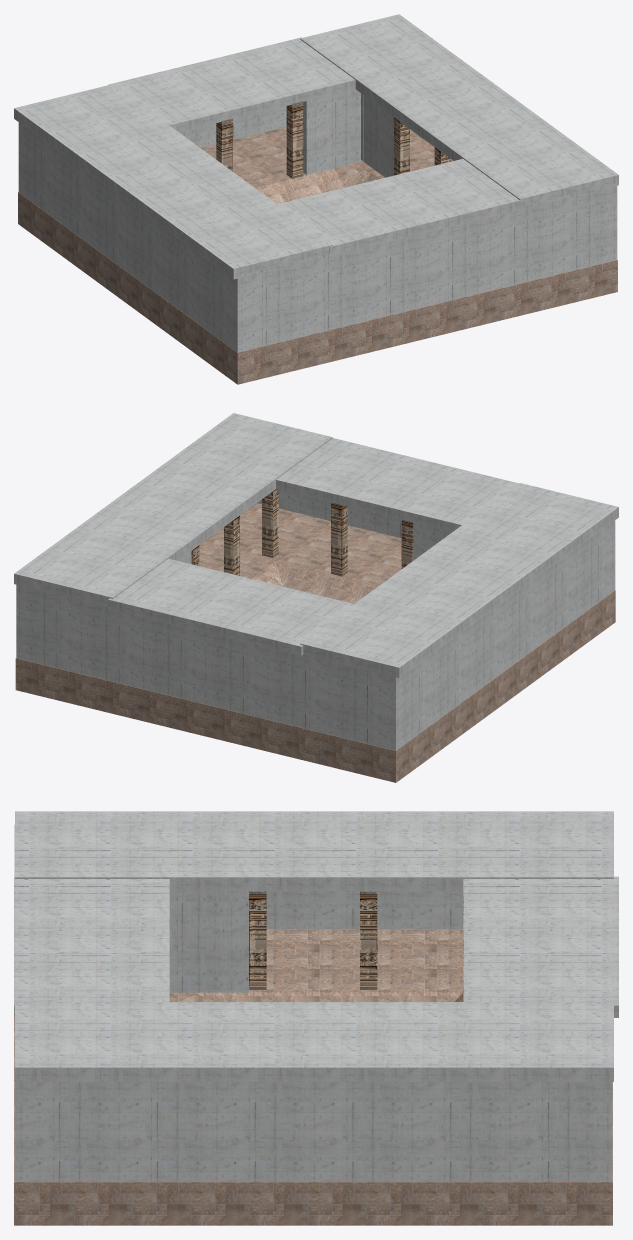
Rendered from SM_patio_00.fbx.
3 views of the same model, one above another, from view 1: azimuth 30°, elevation 25°; view 2: azimuth 150°, elevation 25°; view 3: azimuth 270°, elevation 25° (orthographic). The views are drawn at different scales.
Parts seen in each view (by area): view 1: SM_patio_00; view 2: SM_patio_00; view 3: SM_patio_00.
Part boxes in pixels (left/top/right/bottom): SM_patio_00: left=14, top=14, right=618, bottom=384; SM_patio_00: left=14, top=413, right=618, bottom=782; SM_patio_00: left=14, top=811, right=618, bottom=1225.
Size of the model in its own units: 3039 by 877 by 3030.
